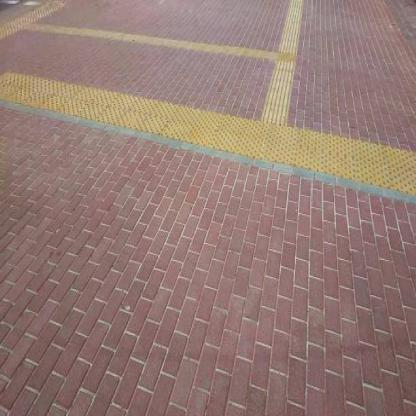podotacti: (2, 0, 413, 195)
